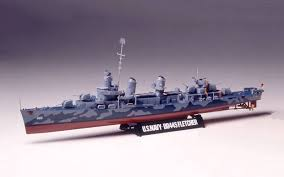tau_muctieu: (14, 55, 265, 123)
